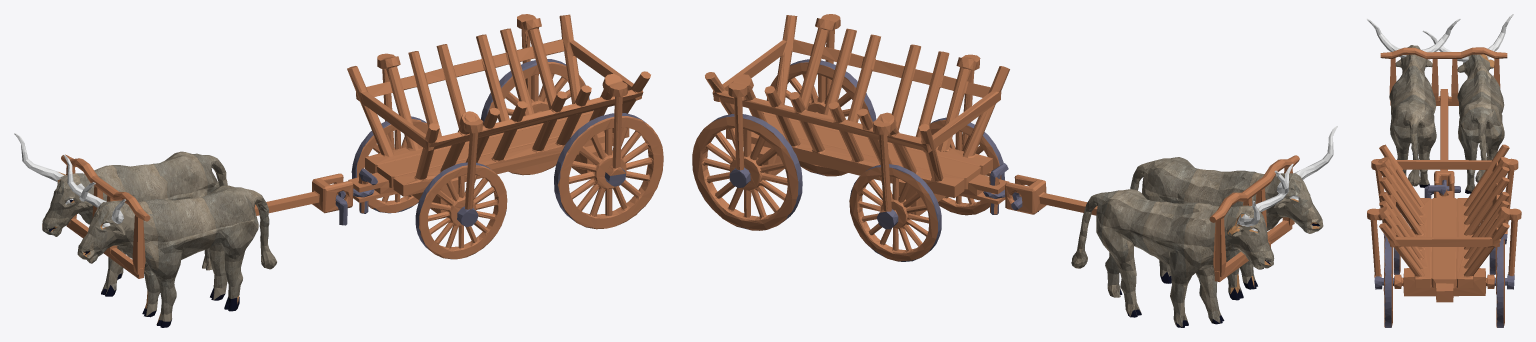
File: FullWagon_03.fbx
3 views of the same model, side by side, from view 1: azimuth 30°, elevation 25°; view 2: azimuth 150°, elevation 25°; view 3: azimuth 270°, elevation 25° (orthographic). The views are drawn at different scales.
Visible parts, largest first — view 1: MainBody; view 2: MainBody; view 3: MainBody.
Boxes of the visible parts, x1,y1,x2,y2 form: MainBody: (14, 14, 663, 327); MainBody: (692, 14, 1337, 327); MainBody: (1366, 14, 1521, 327).
Bounding box in the file's own units: 8429 × 2256 × 2629.
